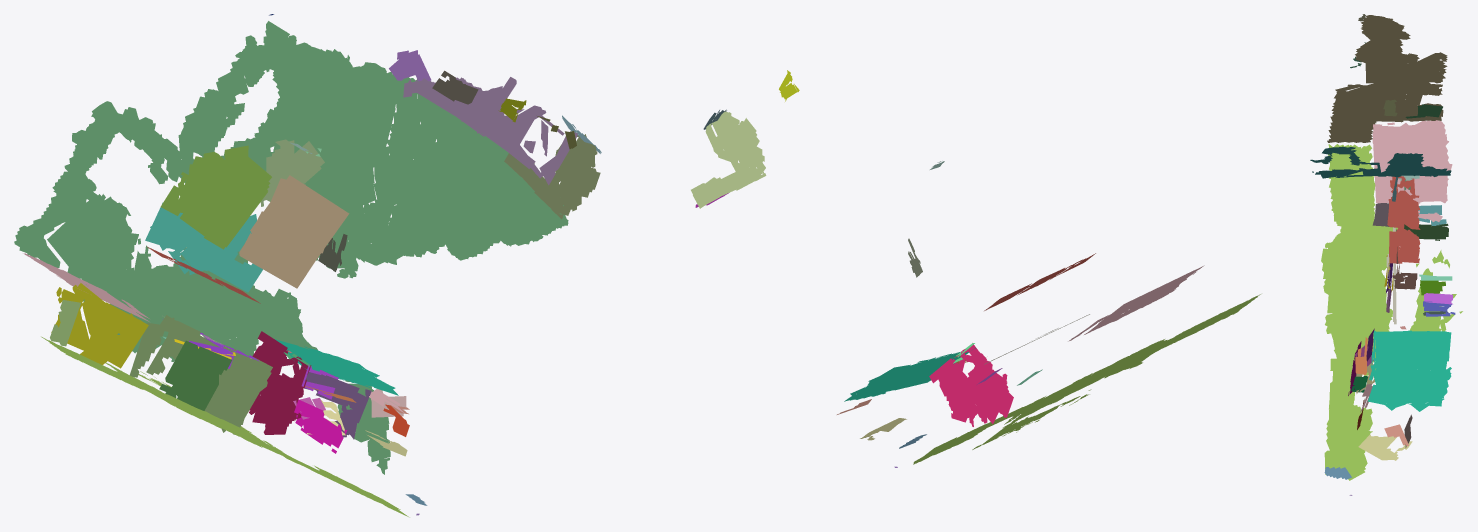
The model's file is scene0552_00_simple.glb.
3 views of the same model, side by side, from view 1: azimuth 30°, elevation 25°; view 2: azimuth 150°, elevation 25°; view 3: azimuth 270°, elevation 25° (orthographic). The views are drawn at different scales.
Size of the model in its own units: 6.63 by 5.64 by 2.12.
